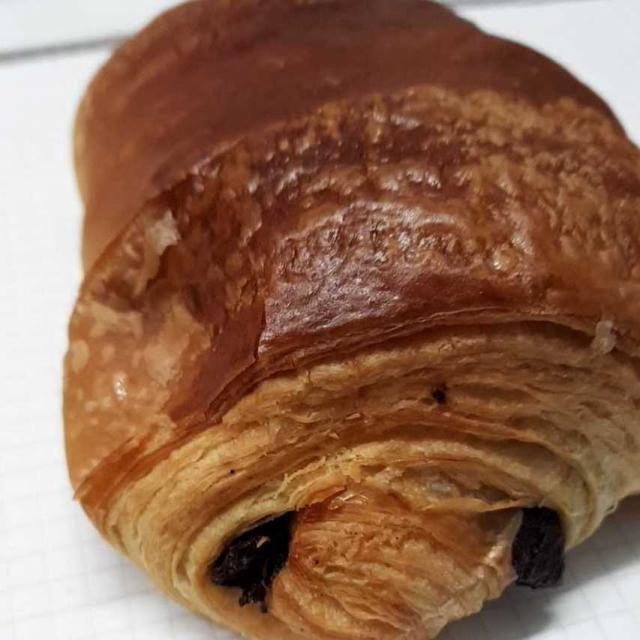croissant: (66, 16, 622, 602)
